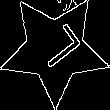L_SW: (27, 22, 83, 77)
